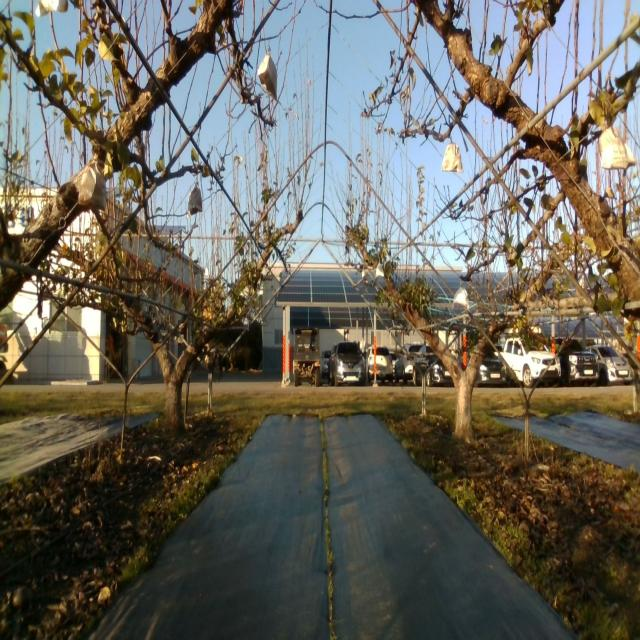pearbags: (598, 125, 636, 171), (78, 156, 108, 210), (257, 45, 277, 98), (442, 136, 462, 174), (187, 181, 203, 219), (452, 280, 469, 310)
